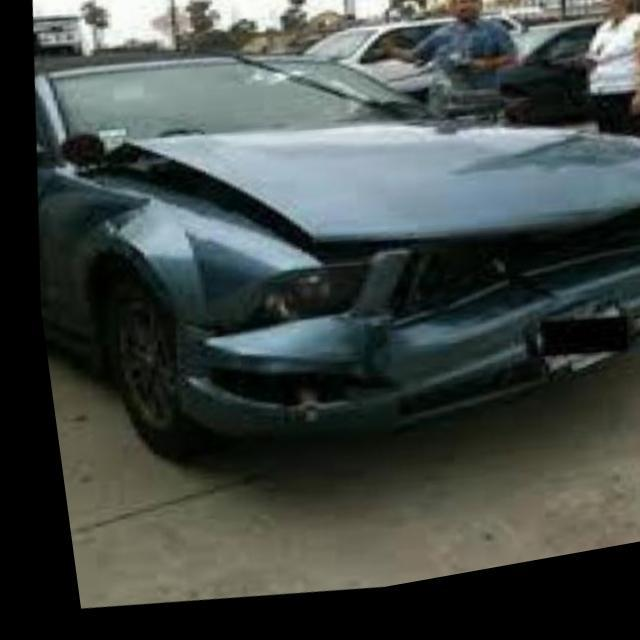dislocated part: (63, 142, 640, 437)
